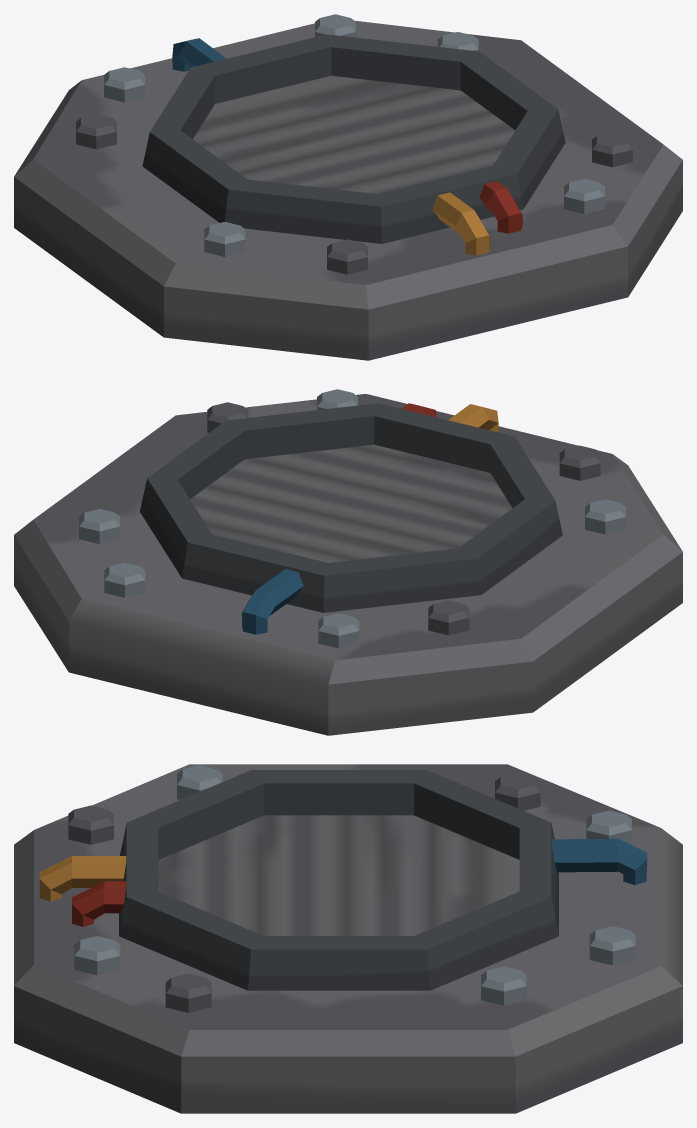
Rendered from SM_Prop_Pipe_Junction_Attatchment_07.fbx.
The picture shows the model from 3 angles, top to bottom: view 1: azimuth 30°, elevation 25°; view 2: azimuth 150°, elevation 25°; view 3: azimuth 270°, elevation 25°; orthographic projection. The views are drawn at different scales.
Visible parts, largest first — view 1: SM_Prop_Pipe_Junction_Attatchment_07; view 2: SM_Prop_Pipe_Junction_Attatchment_07; view 3: SM_Prop_Pipe_Junction_Attatchment_07.
Part boxes in pixels (left/top/right/bottom): SM_Prop_Pipe_Junction_Attatchment_07: left=14, top=14, right=682, bottom=360; SM_Prop_Pipe_Junction_Attatchment_07: left=14, top=389, right=682, bottom=735; SM_Prop_Pipe_Junction_Attatchment_07: left=14, top=764, right=682, bottom=1113.
Size of the model in its own units: 114 by 21.25 by 114.
